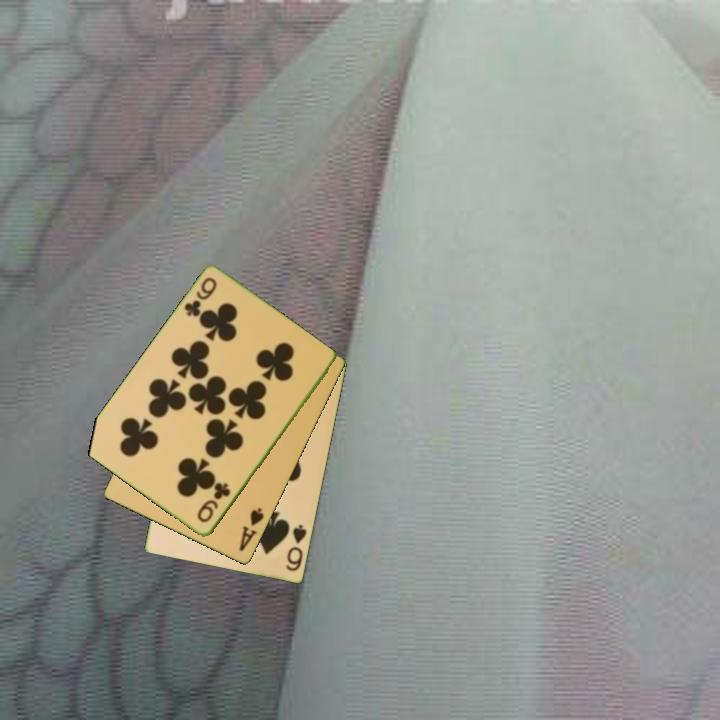6s: (282, 522, 310, 574)
9c: (180, 274, 220, 321), (194, 479, 233, 526)
As: (236, 504, 267, 555)
